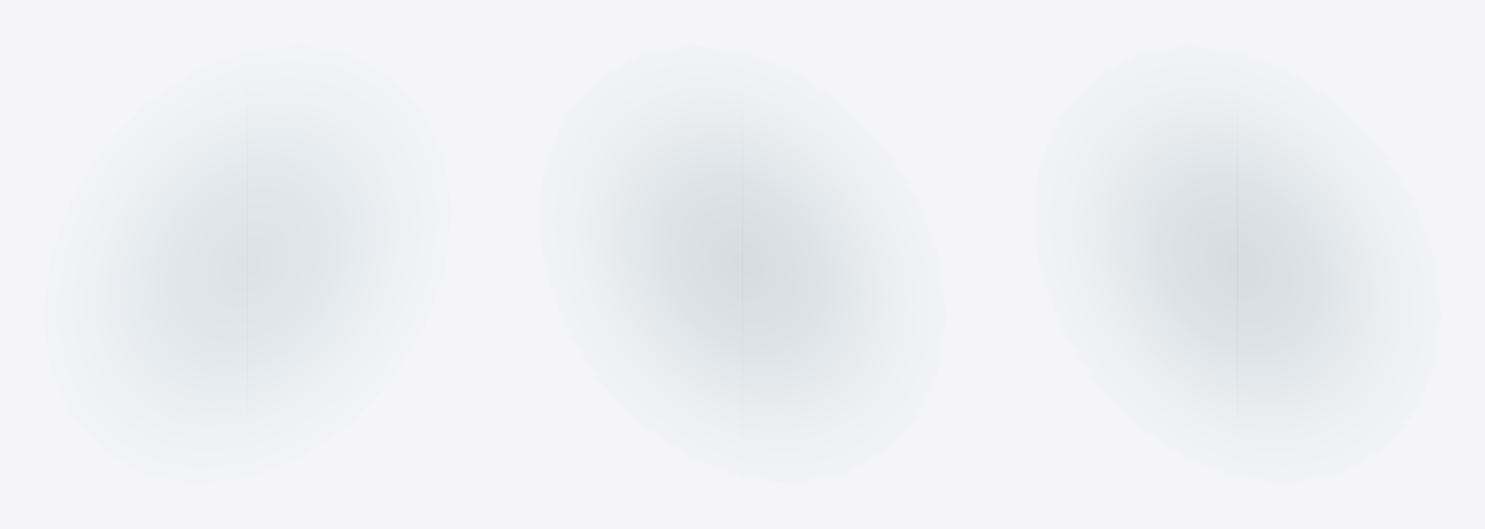
Rendered from menu-glow.glb.
The picture shows the model from 3 angles, left to right: view 1: azimuth 30°, elevation 25°; view 2: azimuth 150°, elevation 25°; view 3: azimuth 330°, elevation 25°; orthographic projection.
Bounding box in the file's own units: 2 × 2 × 0.
